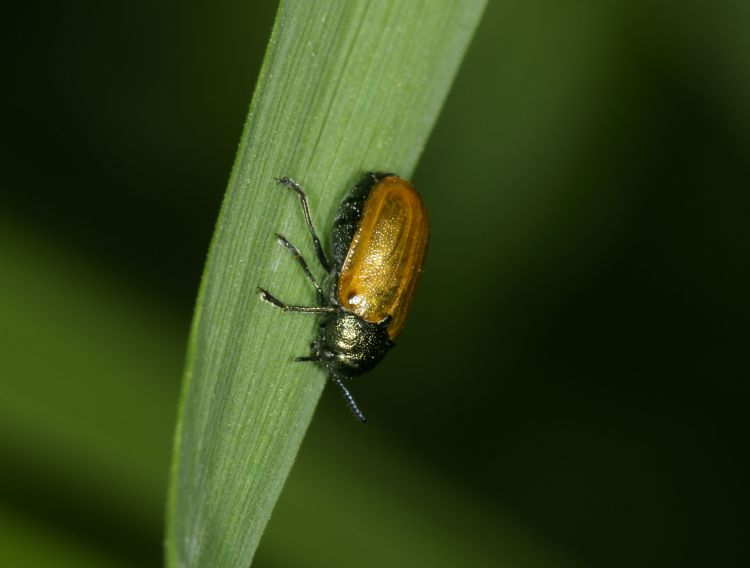Labidostomis_longimana: (257, 161, 440, 428)
